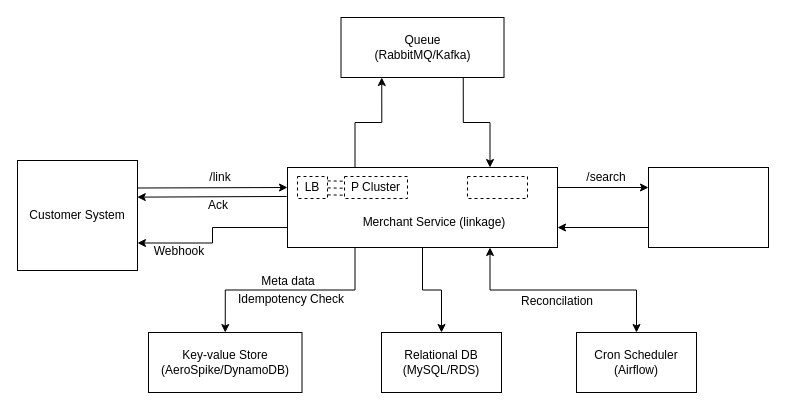
Image size: 786x410. Some labels were removed from this diagram. Each missing label, with the centre of its shape:
"C Cluster" belongs at point 497,187.
"Internal System" belongs at point 708,207.
